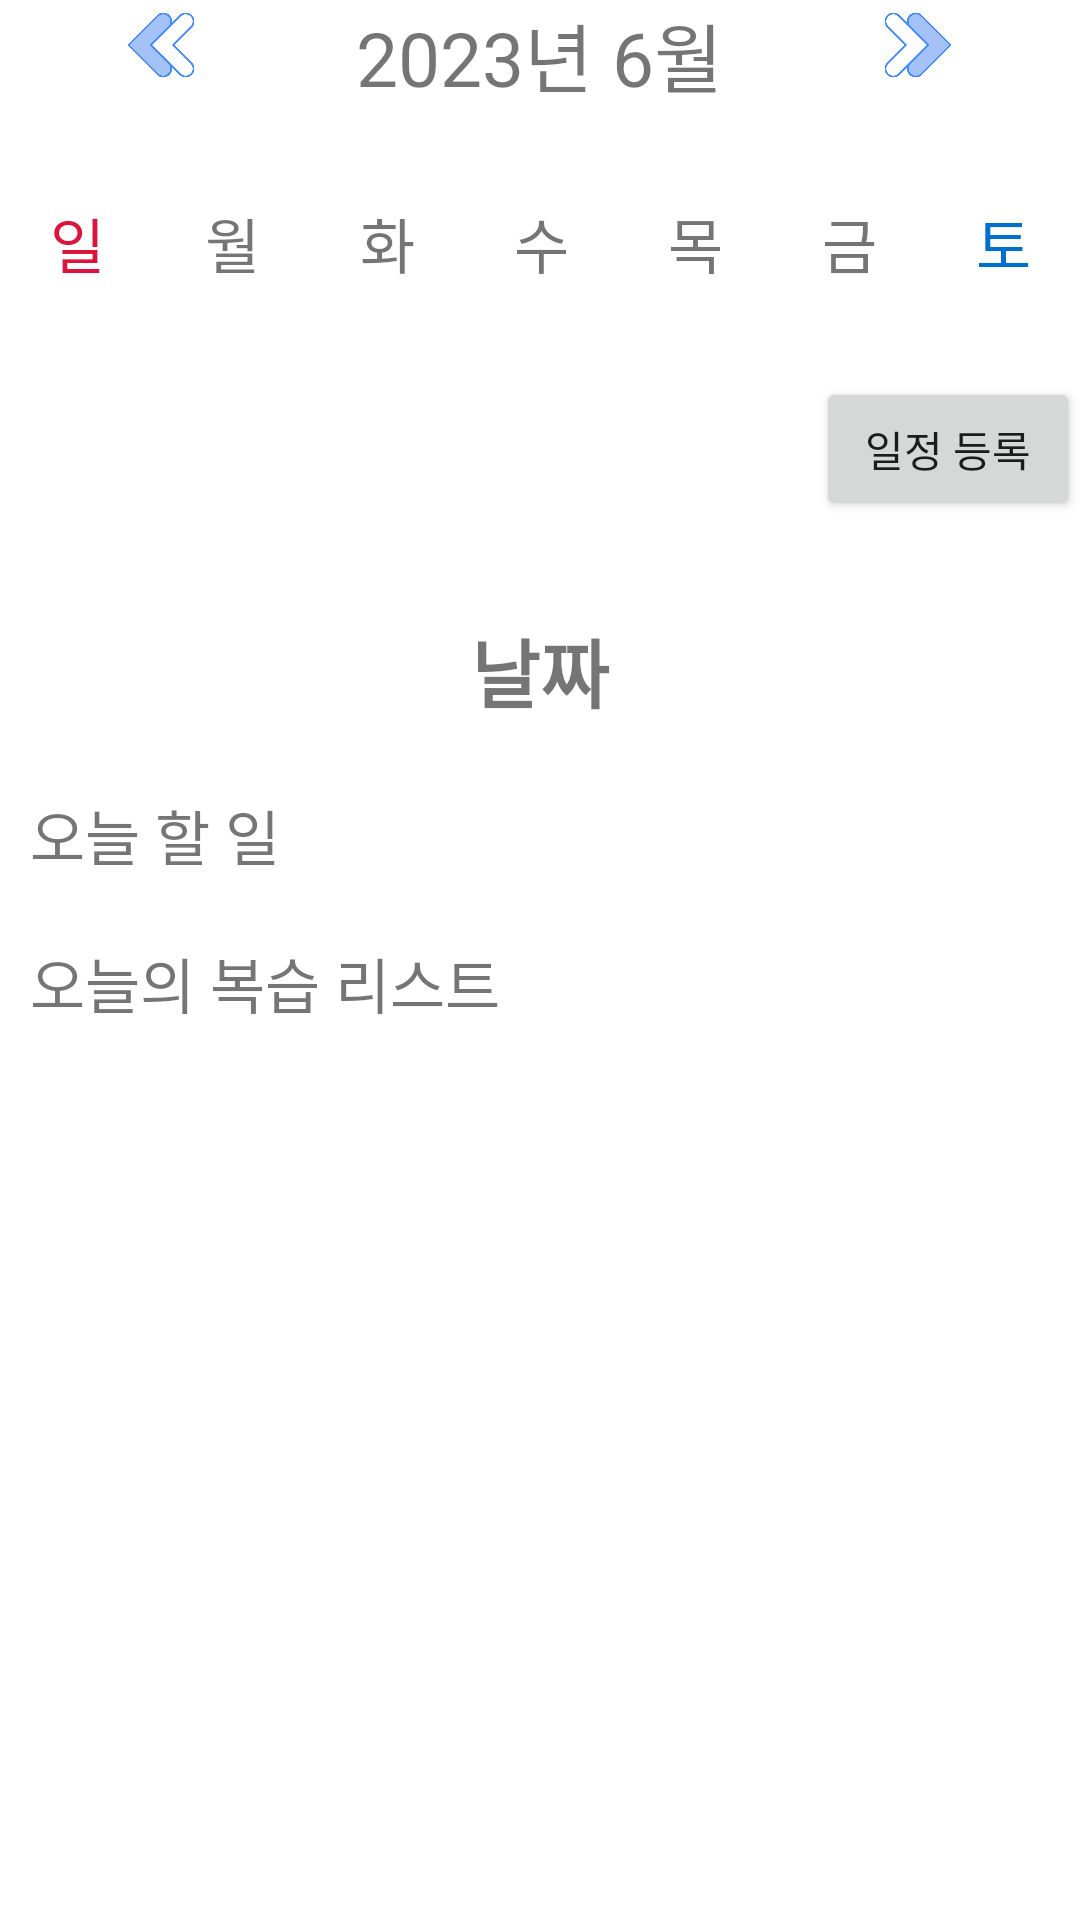

Screen size 1080w x 1920h. Icon name, then its box in pixels as (x1, y1, x2, y2):
left arrow: (128, 12, 194, 78)
right arrow: (885, 12, 951, 78)
